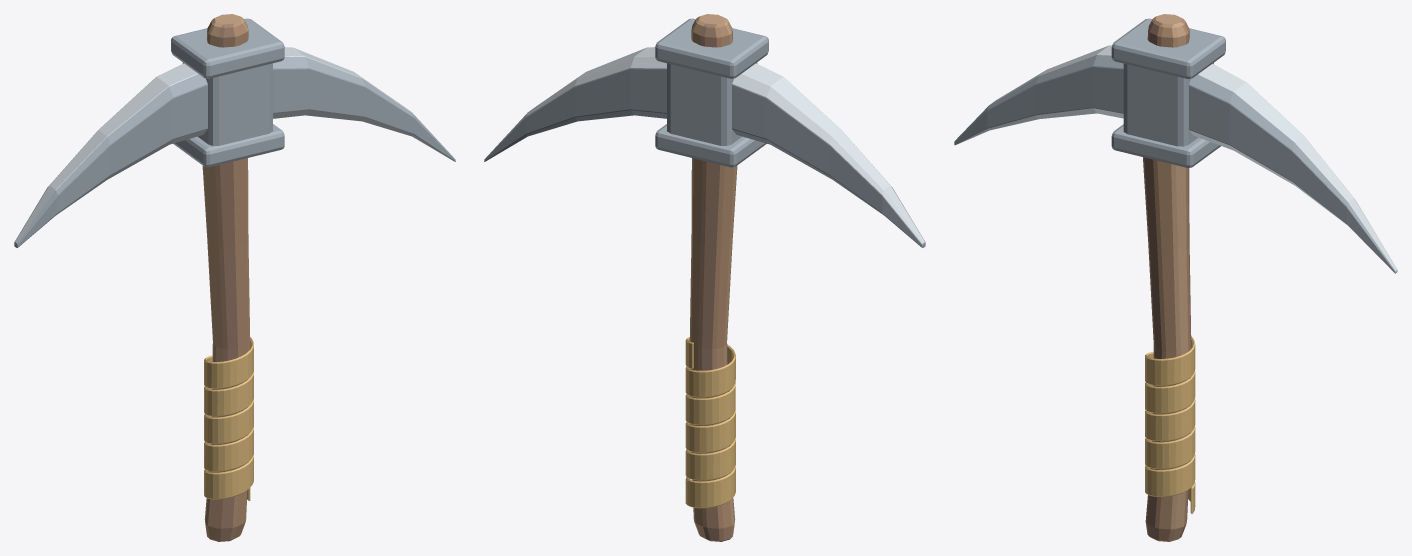
Rendered from IronPickaxe.glb.
3 views of the same model, side by side, from view 1: azimuth 30°, elevation 25°; view 2: azimuth 150°, elevation 25°; view 3: azimuth 330°, elevation 25° (orthographic).
Parts seen in each view (by area): view 1: Iron, Wood, Leather; view 2: Iron, Wood, Leather; view 3: Iron, Wood, Leather.
Part boxes in pixels (box(x1,y1,x2,y2)): Iron: box(14, 18, 455, 247); Wood: box(202, 14, 250, 541); Leather: box(204, 337, 253, 500); Iron: box(484, 18, 925, 247); Wood: box(689, 14, 737, 541); Leather: box(685, 337, 735, 508); Iron: box(954, 18, 1397, 273); Wood: box(1143, 14, 1191, 541); Leather: box(1145, 336, 1195, 513).
Size of the model in its own units: 3.58 by 4.02 by 0.52.
